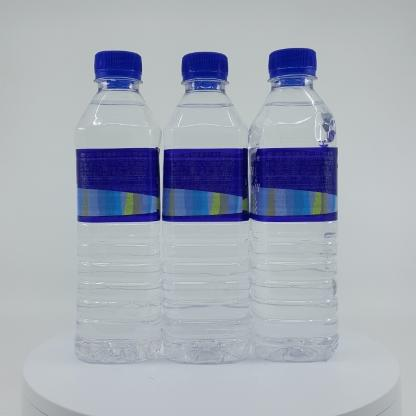----------500ML: (248, 48, 339, 362), (74, 50, 163, 364), (163, 52, 251, 365)
